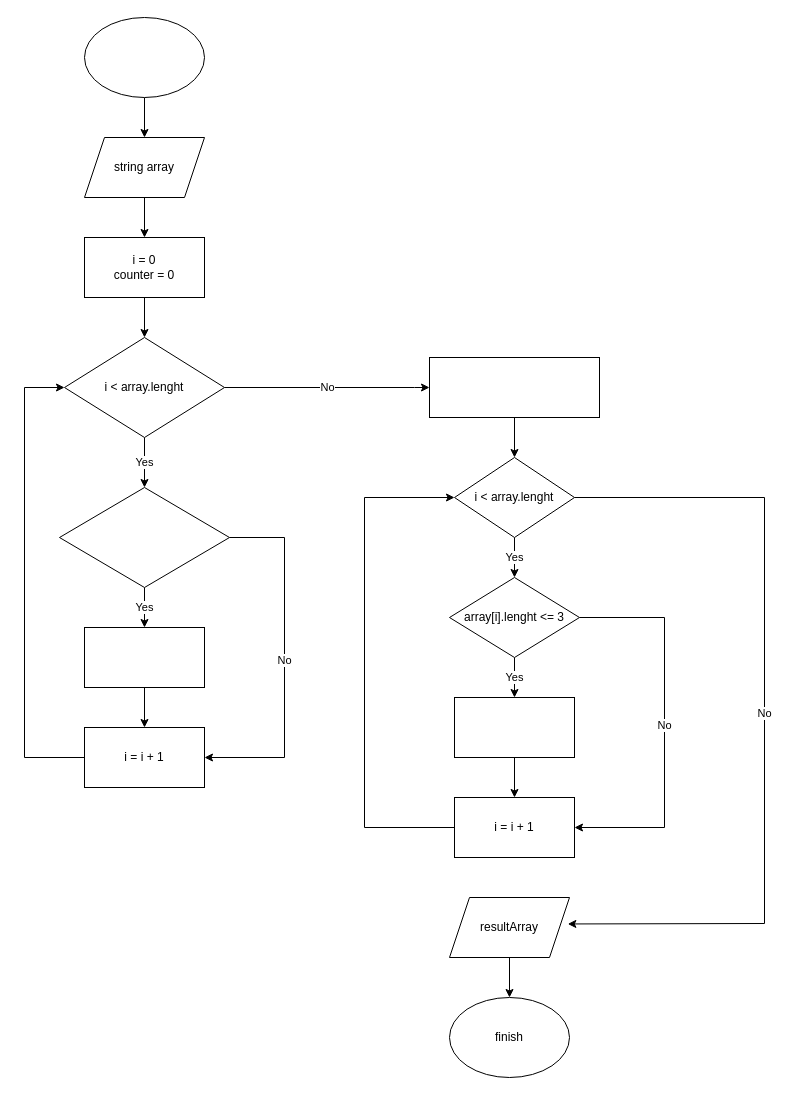
The diagram is 790 pixels wide and 1095 high, and some of its shapes have lost their labels. The shapes that lost their labels are listed below. From the top down, each one's centre as x and y in pixels, then its label:
At (x=144, y=57): "start".
At (x=514, y=387): "create resultArray[counter] j = 0 i = 0".
At (x=144, y=537): "array[i].lenght<= 3".
At (x=144, y=657): "counter = counter + 1".
At (x=514, y=727): "resultarray[i] = array[i] j = j + 1".
